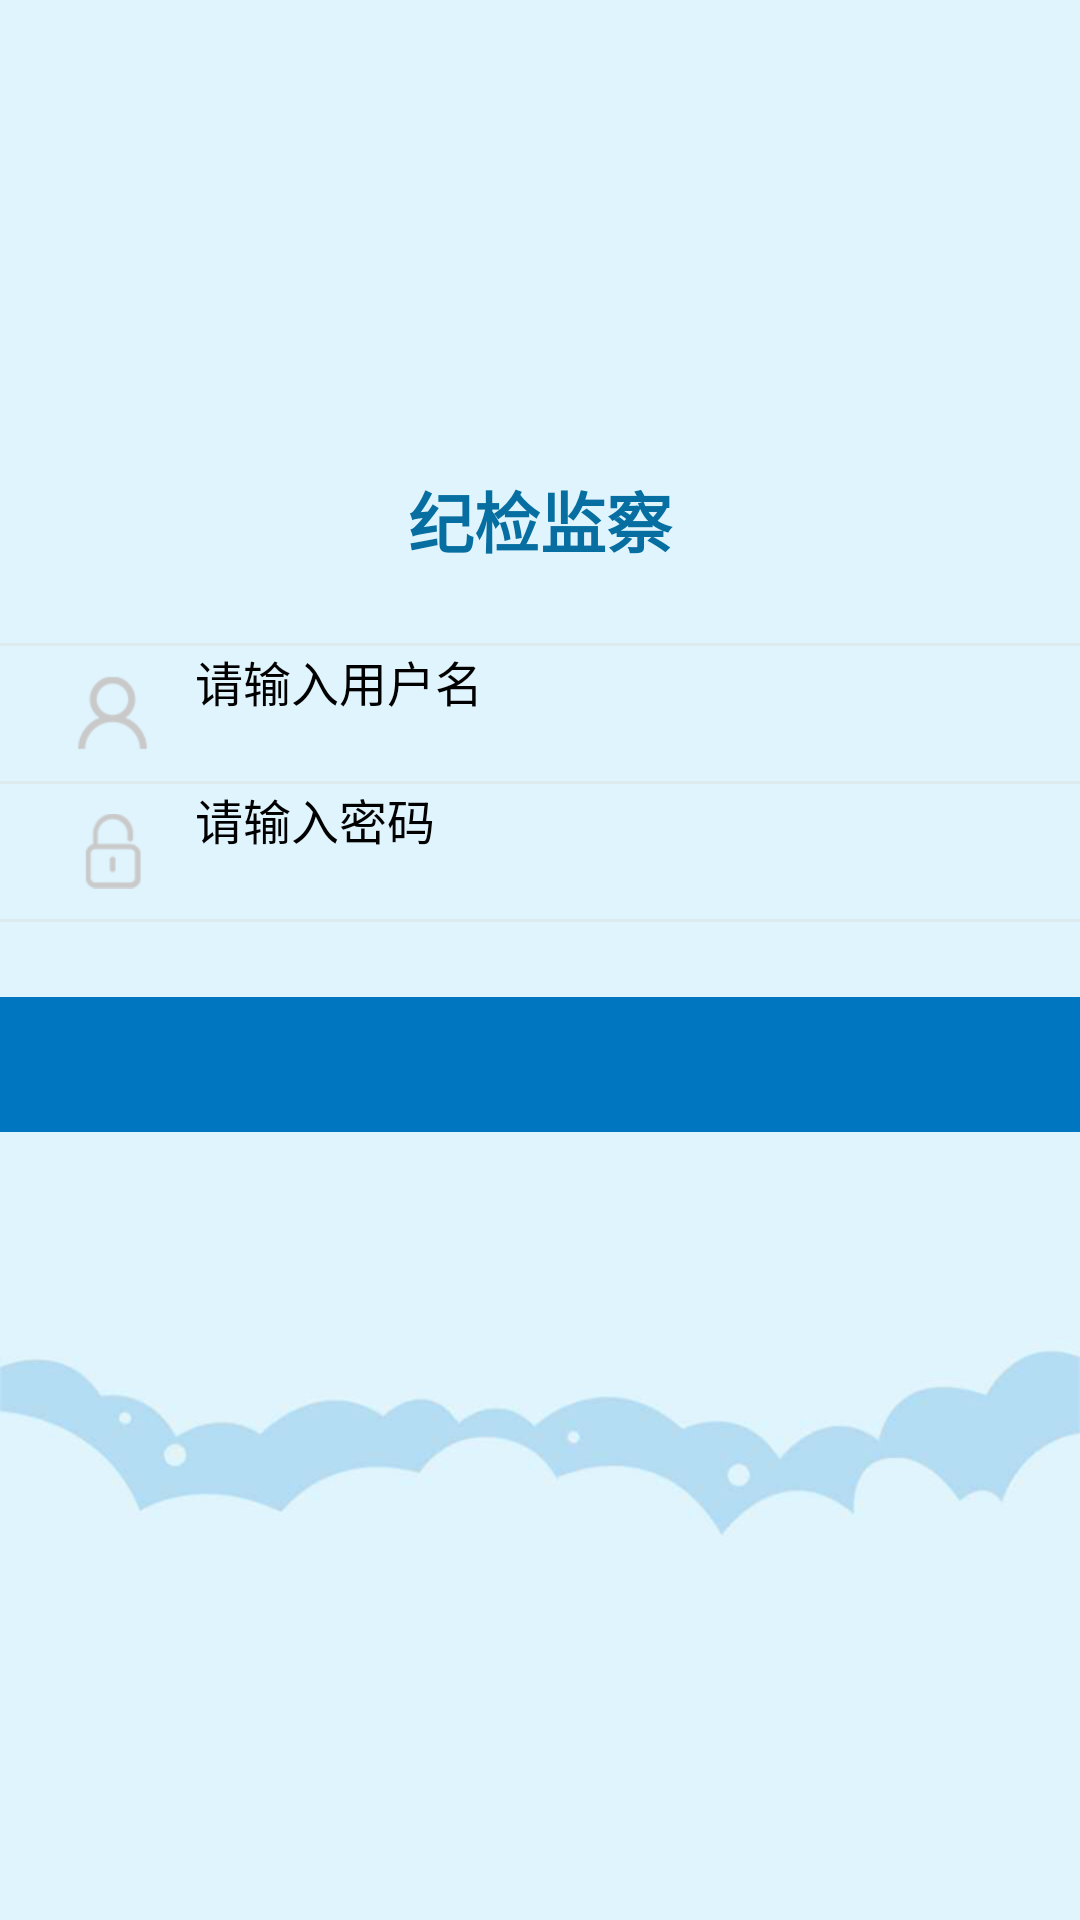

Icons on this 1080 x 1920 Android screen, each with the point to tap as (x=x, y=y):
password: (x=113, y=851)
user: (x=112, y=713)
